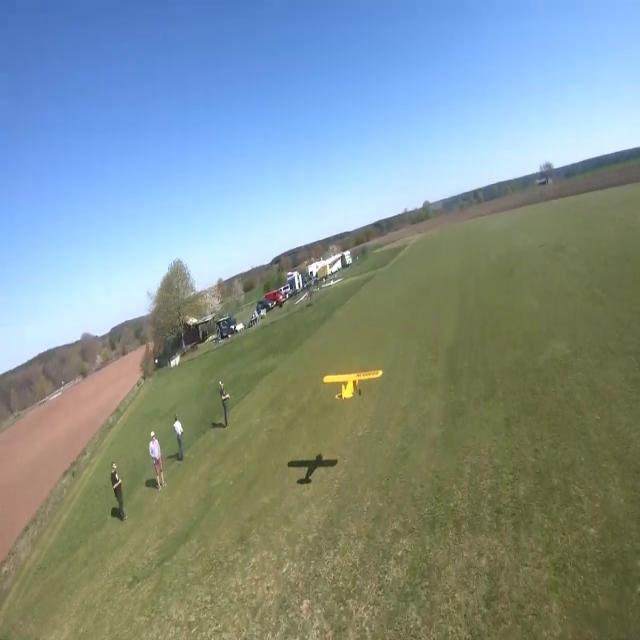iha: (322, 367, 384, 402)
